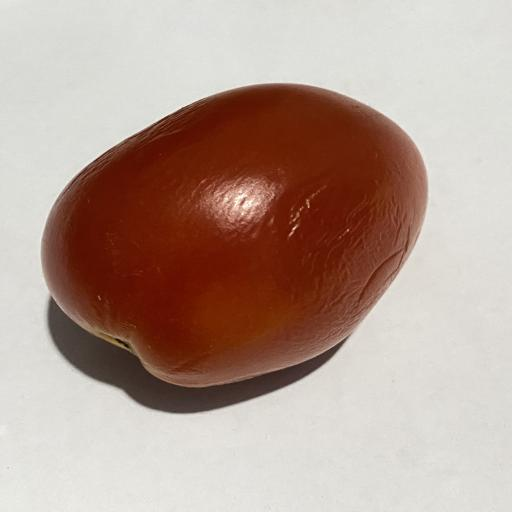spoiled: (42, 84, 427, 387)
